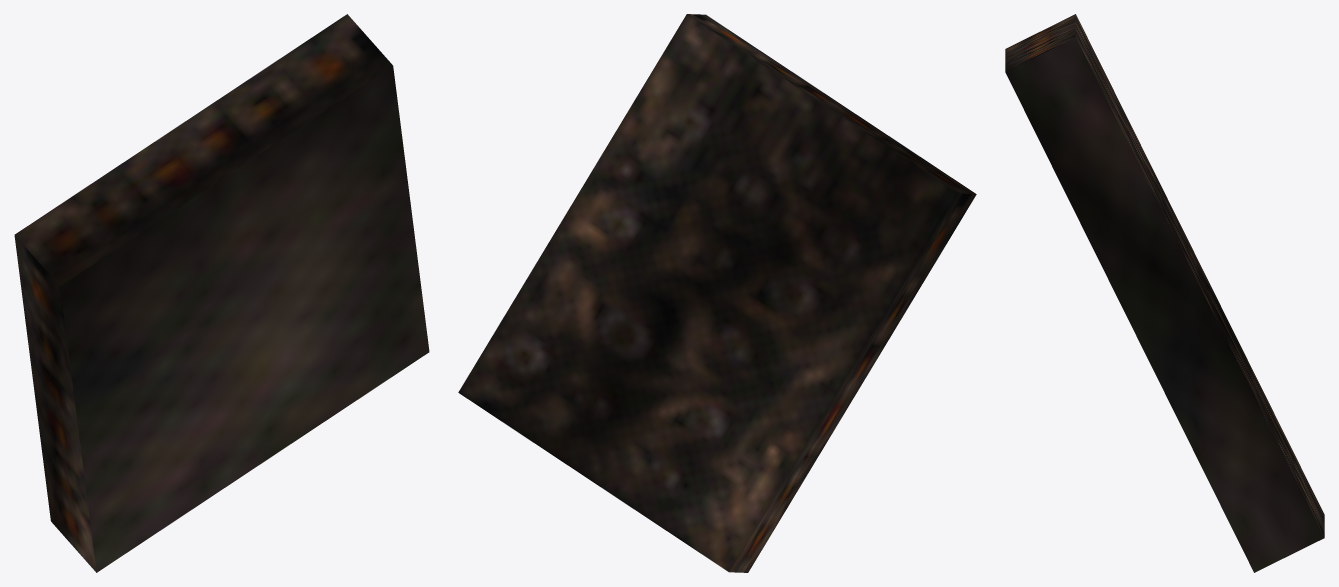
Rendered from icon_0.ico.obj.
The picture shows the model from 3 angles, left to right: view 1: azimuth 30°, elevation 25°; view 2: azimuth 150°, elevation 25°; view 3: azimuth 270°, elevation 25°; orthographic projection. The views are drawn at different scales.
Size of the model in its own units: 3.38 by 3.75 by 1.83.
1 material, 1 textured.
